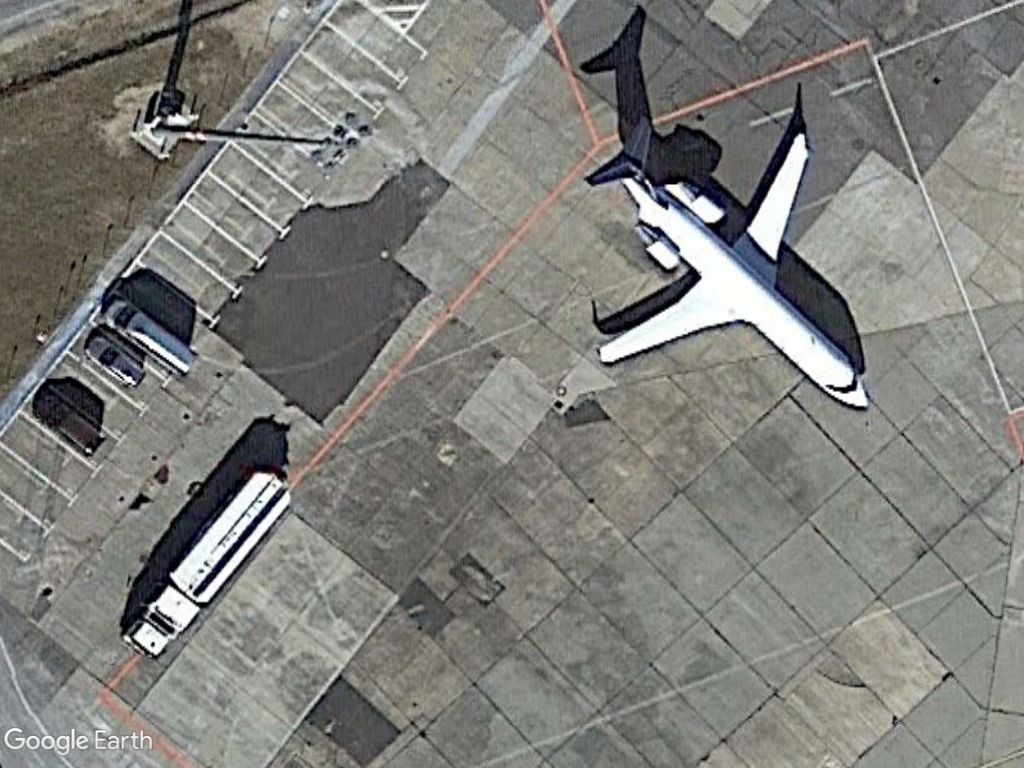car: (78, 333, 151, 391)
chartered: (571, 101, 877, 425)
longvehicle: (119, 457, 302, 665)
van: (100, 298, 204, 378)
